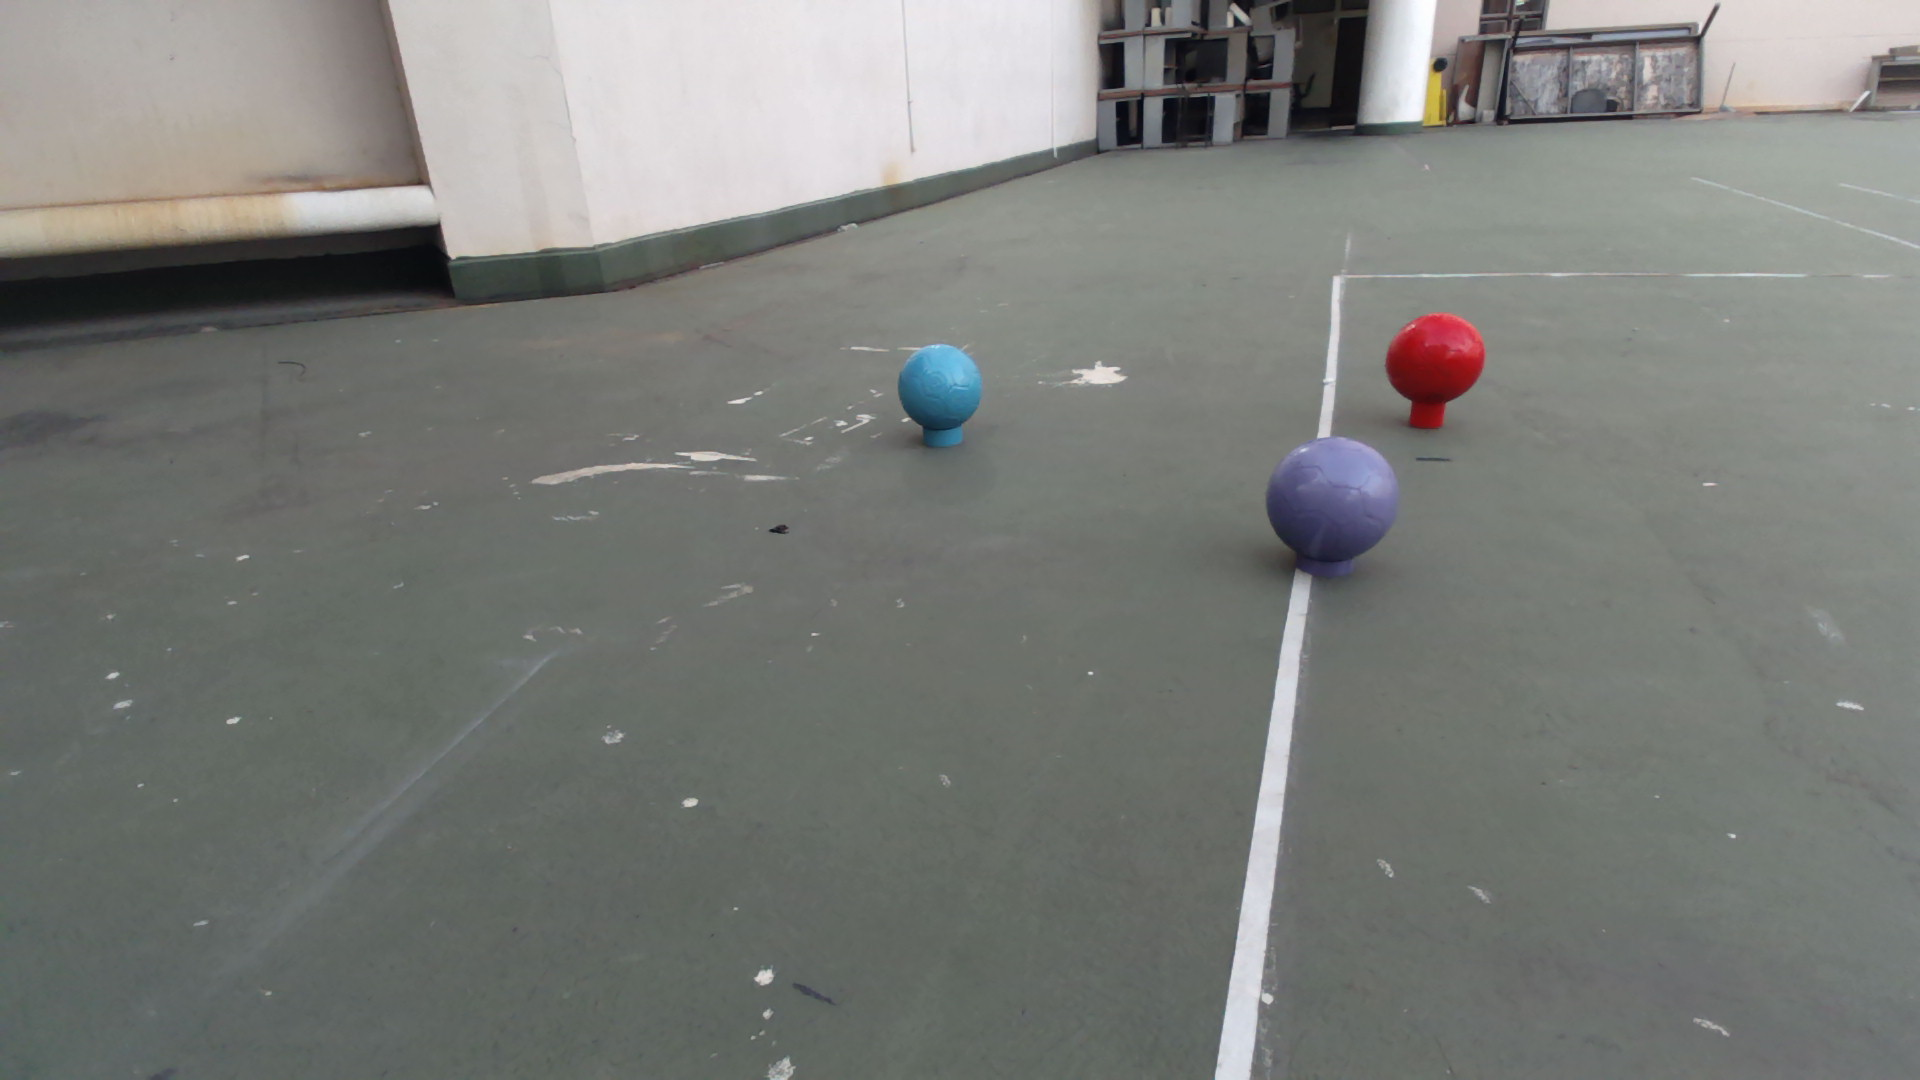Blue ball: (895, 342, 984, 433)
Purple ball: (1263, 436, 1400, 564)
Red ball: (1383, 310, 1487, 406)
